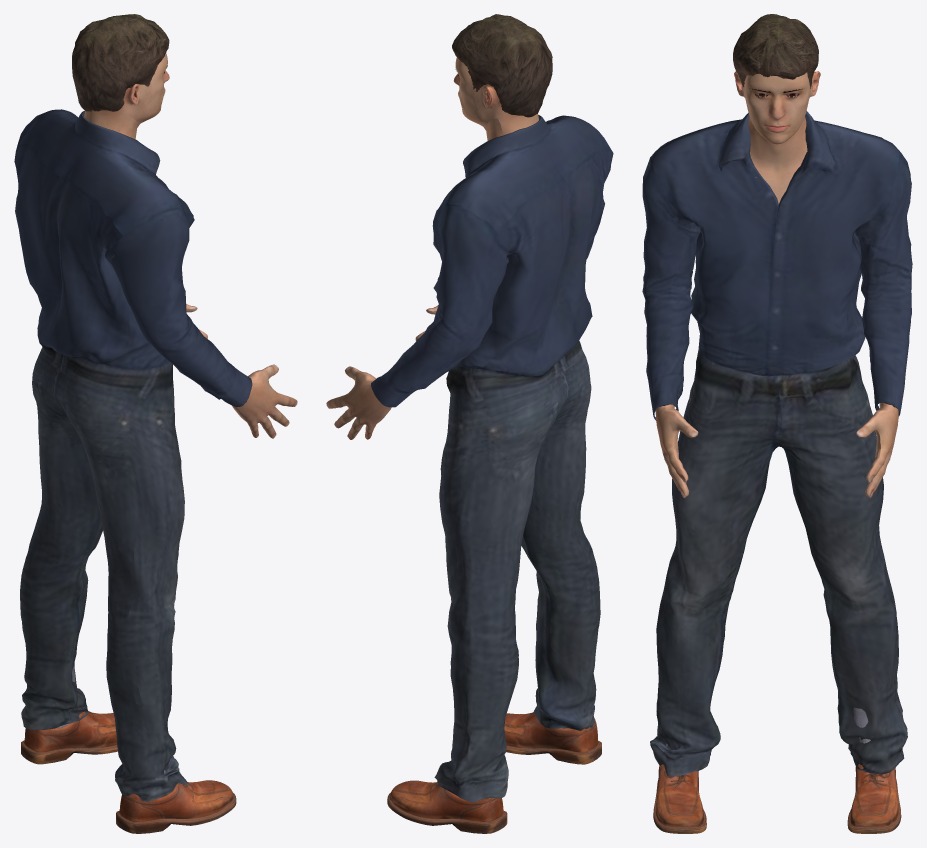
Rendered from talent-male-standing.glb.
3 renders of one model, left to right at view 1: azimuth 30°, elevation 25°; view 2: azimuth 150°, elevation 25°; view 3: azimuth 270°, elevation 25°, orthographic. The views are drawn at different scales.
Visible parts, largest first — view 1: male_casualsuit01, shoes01, short02, body; view 2: male_casualsuit01, shoes01, short02, body; view 3: male_casualsuit01, body, shoes01, short02.
Part boxes in pixels (x1,y1,x2,y2): male_casualsuit01: [14, 109, 252, 801]; shoes01: [21, 666, 236, 833]; short02: [72, 14, 169, 111]; body: [84, 53, 297, 438]; male_casualsuit01: [371, 115, 613, 802]; shoes01: [387, 712, 601, 833]; short02: [452, 14, 552, 117]; body: [326, 57, 538, 439]; male_casualsuit01: [642, 111, 912, 776]; body: [655, 71, 898, 498]; shoes01: [653, 707, 901, 833]; short02: [733, 14, 818, 88].
Size of the model in its own units: 0.4991 by 1.77 by 0.5506.
Materials: 7 (7 with a texture image).
